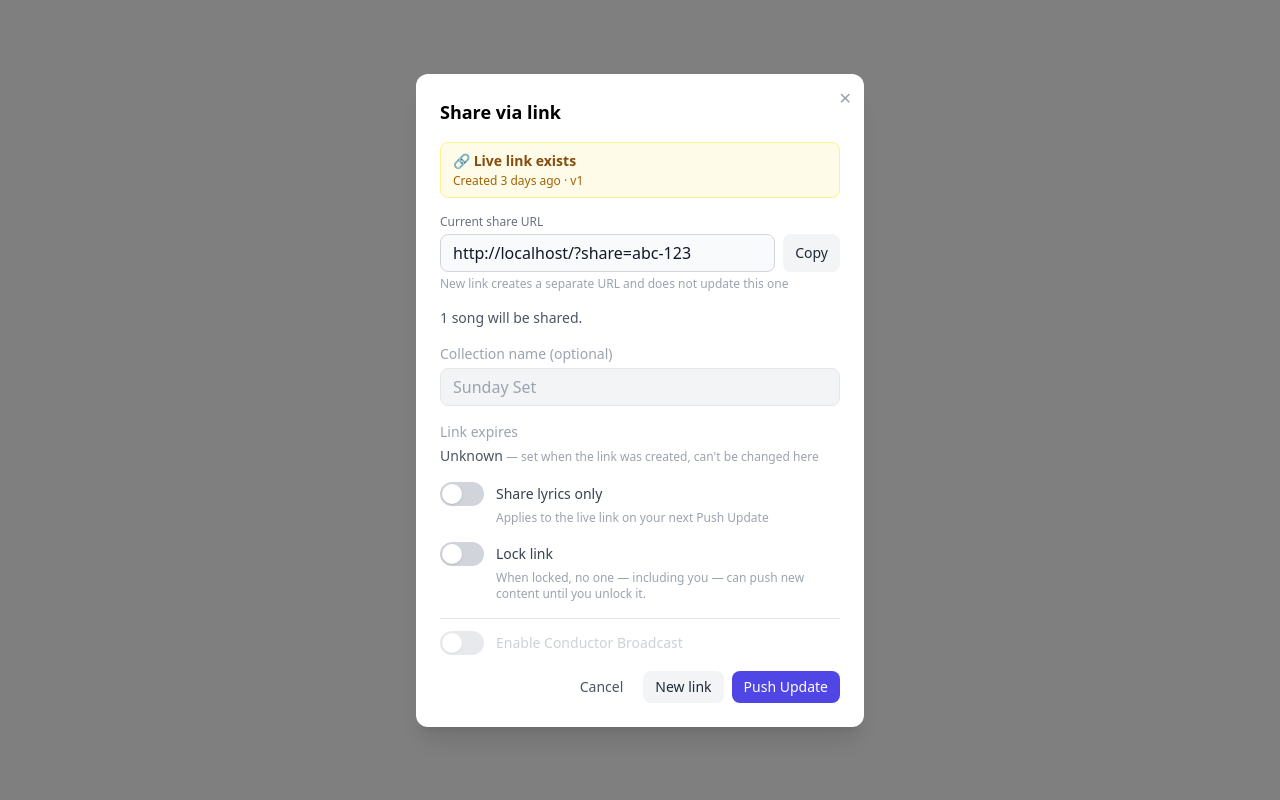
ShareModal — update mode › shows "re-locked" message when Push Update response includes locked: true
The width and height of the screenshot is (1280, 800).
Click the button "Push Update" at coordinates (786, 686), box [732,670,840,702]
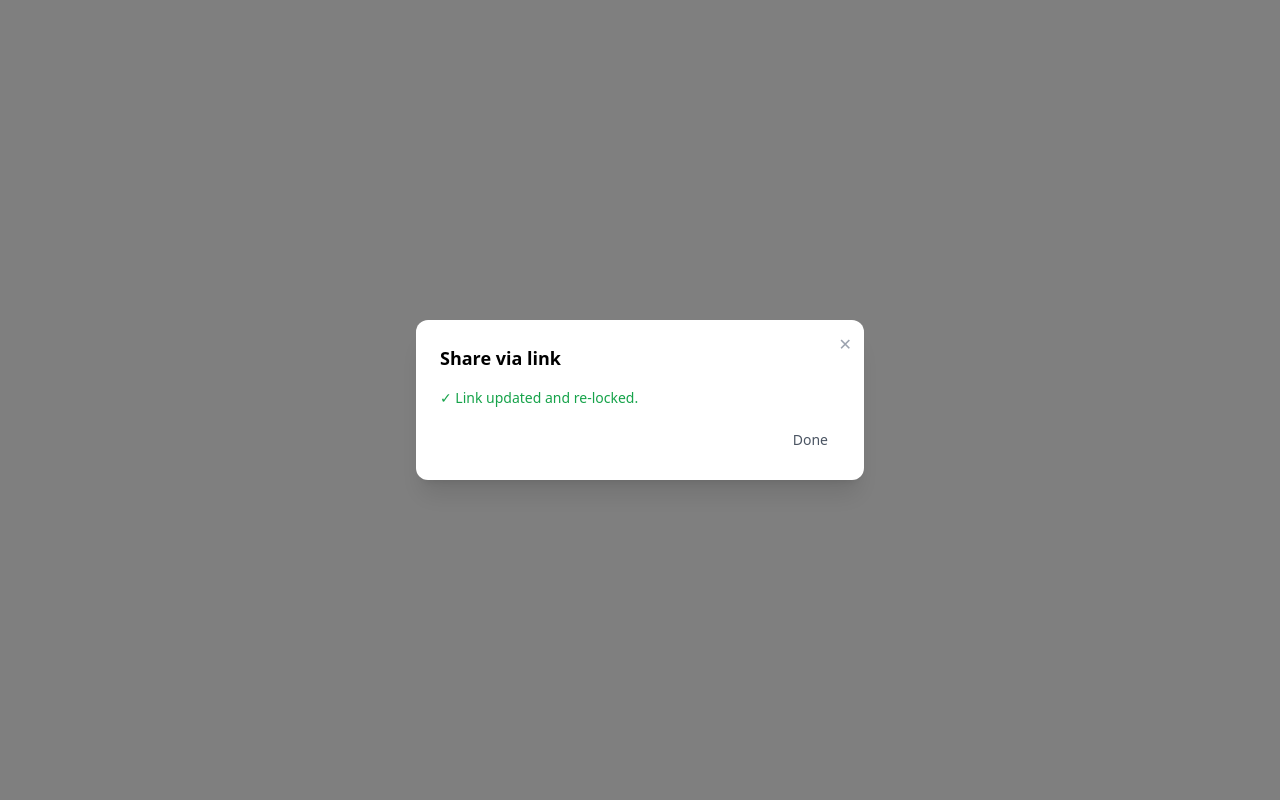
Expected: the text "✓ Link updated and re-locked." is shown, [440,388,638,407]
